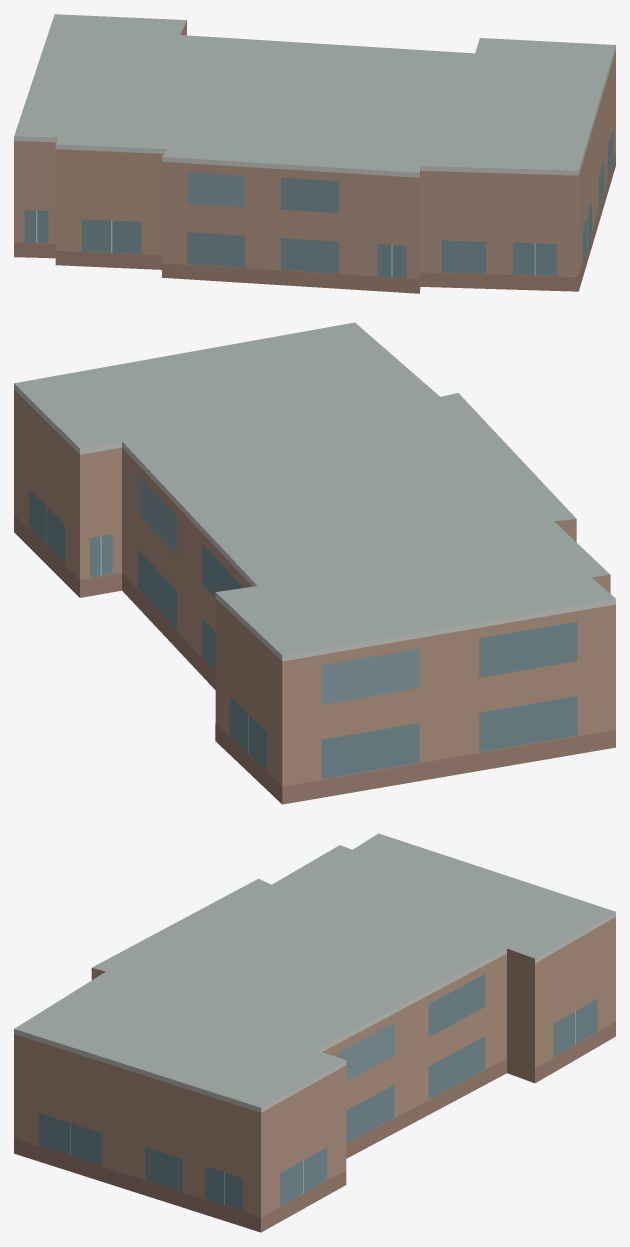
File: survey-upis-32983483.glb
The picture shows the model from 3 angles, top to bottom: view 1: azimuth 30°, elevation 25°; view 2: azimuth 150°, elevation 25°; view 3: azimuth 270°, elevation 25°; orthographic projection. The views are drawn at different scales.
Visible parts, largest first — view 1: survey-upis-32983483.tmp; view 2: survey-upis-32983483.tmp; view 3: survey-upis-32983483.tmp.
Boxes of the visible parts, box(x1,y1,x2,y2) form: survey-upis-32983483.tmp: box(14, 14, 615, 293); survey-upis-32983483.tmp: box(14, 322, 615, 804); survey-upis-32983483.tmp: box(14, 833, 615, 1232).
Size of the model in its own units: 28.8 by 6.1 by 26.69.
